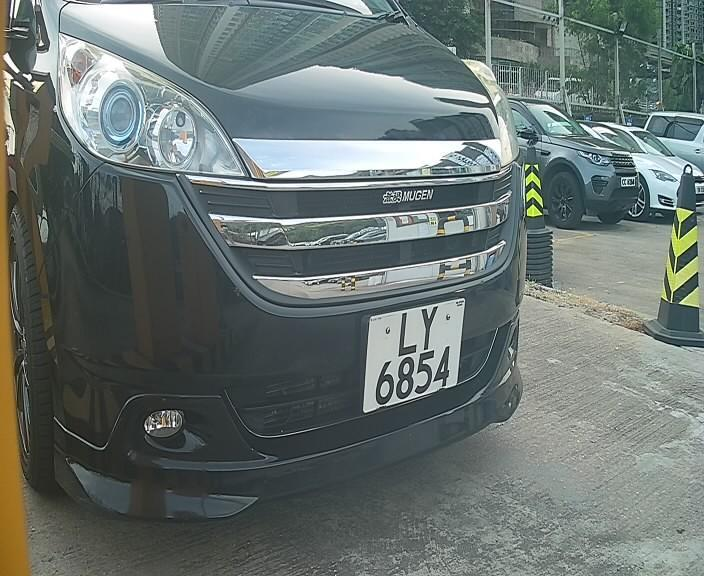privatecar: (13, 13, 547, 517)
